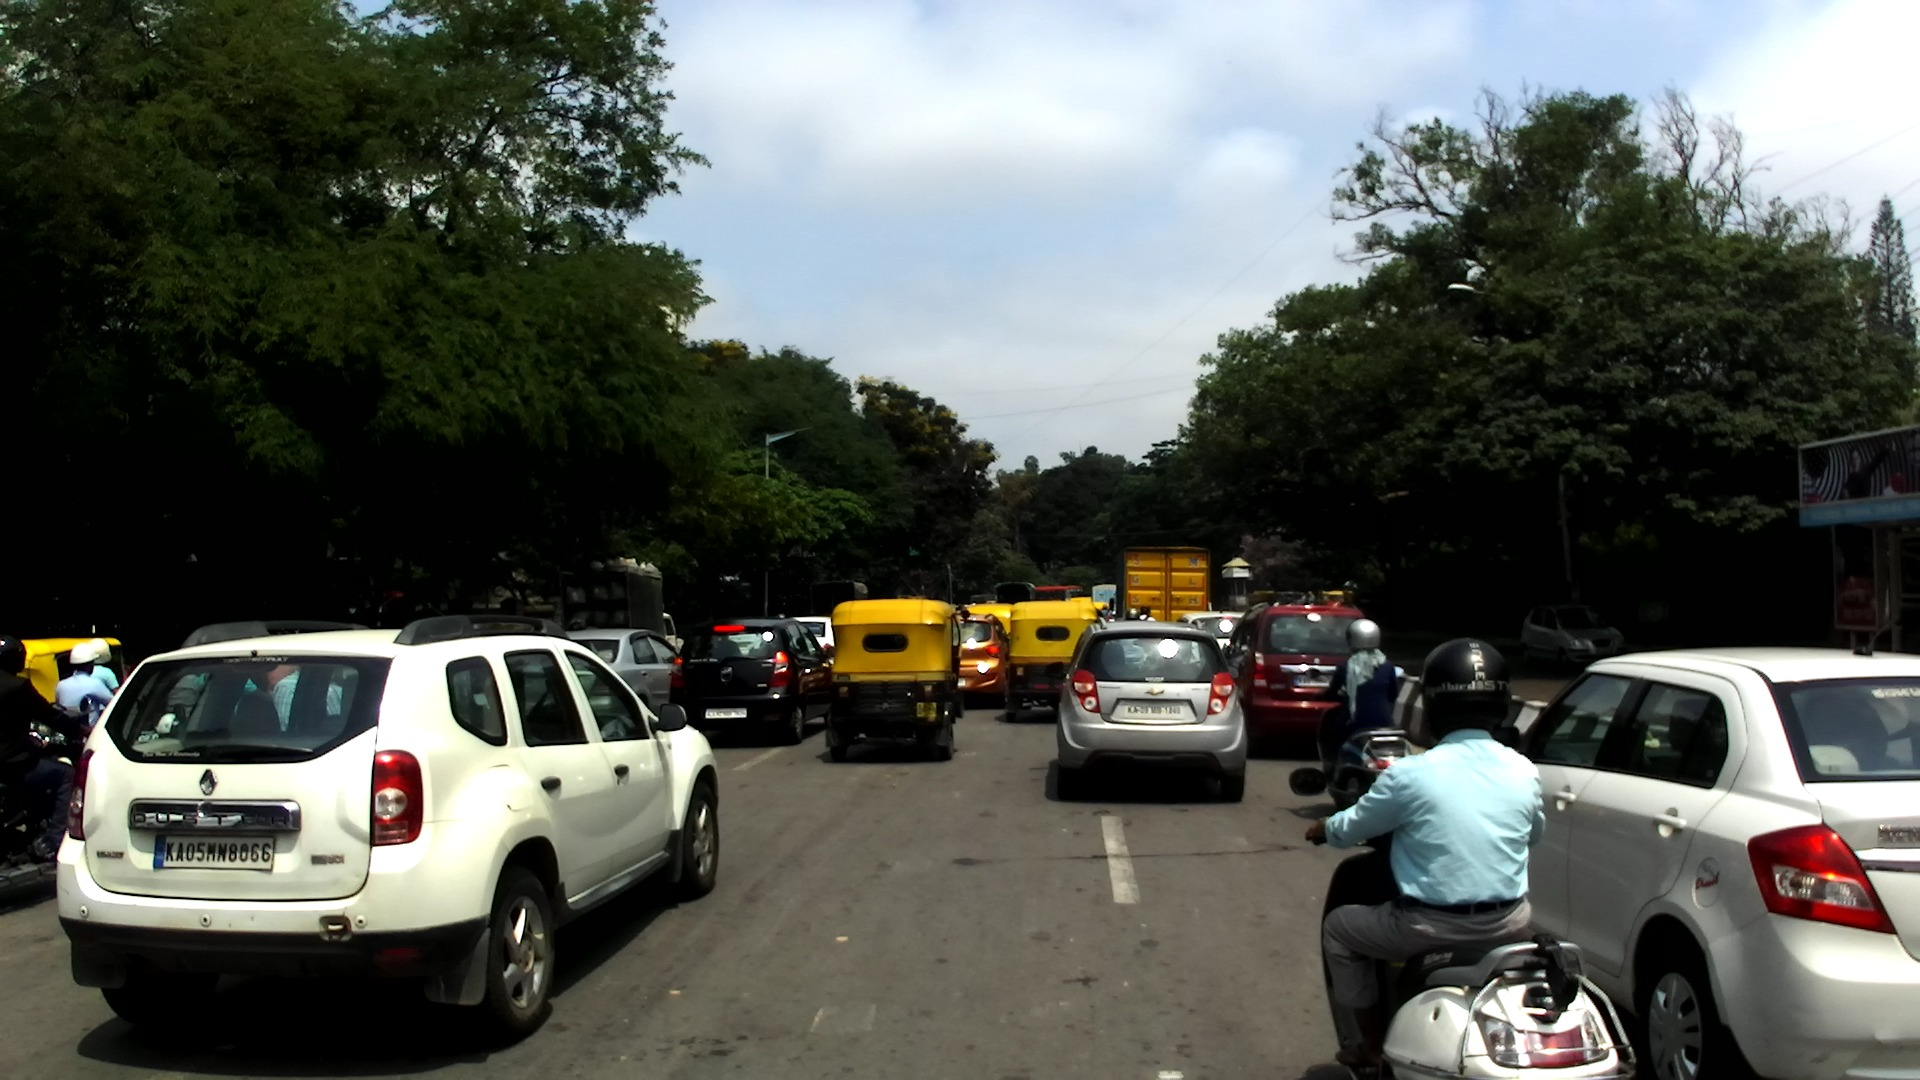autorickshaw: (829, 596, 969, 765), (1, 634, 128, 742), (1005, 600, 1101, 725), (957, 601, 1014, 646)
car: (42, 610, 725, 1041), (1495, 640, 1919, 1080), (1055, 616, 1249, 807), (667, 615, 837, 745), (1220, 604, 1367, 753), (560, 626, 679, 724), (1515, 600, 1626, 670), (952, 613, 1009, 709), (1178, 609, 1246, 658), (788, 614, 834, 662)
motorcycle: (1285, 768, 1638, 1079), (1, 694, 96, 902), (1303, 667, 1409, 813)
rider: (1303, 636, 1549, 1063), (1, 632, 87, 852), (1313, 617, 1400, 789), (50, 644, 121, 733), (82, 636, 120, 717), (1242, 588, 1282, 615), (1334, 589, 1360, 613), (1136, 604, 1158, 622), (1297, 587, 1313, 607), (1122, 607, 1140, 623), (1098, 606, 1112, 621), (1280, 595, 1292, 607)
truck: (555, 554, 685, 658), (1108, 543, 1212, 624), (807, 581, 868, 619), (994, 578, 1039, 608), (1091, 581, 1120, 610), (1035, 586, 1088, 601), (967, 592, 997, 606)
vehicle fallback: (1320, 589, 1352, 607), (1274, 591, 1303, 606)
